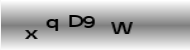9: (82, 15, 95, 28)
D: (68, 13, 82, 27)
W: (111, 20, 133, 34)
q: (45, 17, 59, 32)
x: (23, 28, 38, 40)
